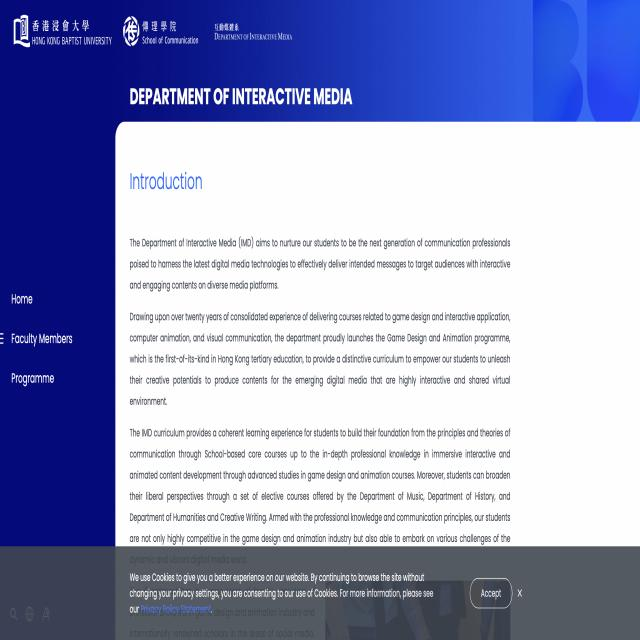Logo: (6, 7, 114, 53)
Navigation: (1, 249, 102, 512)
